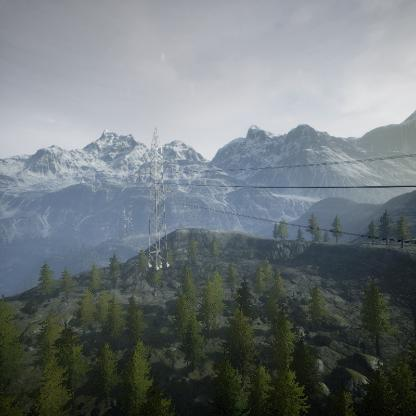tower: (136, 125, 178, 273)
